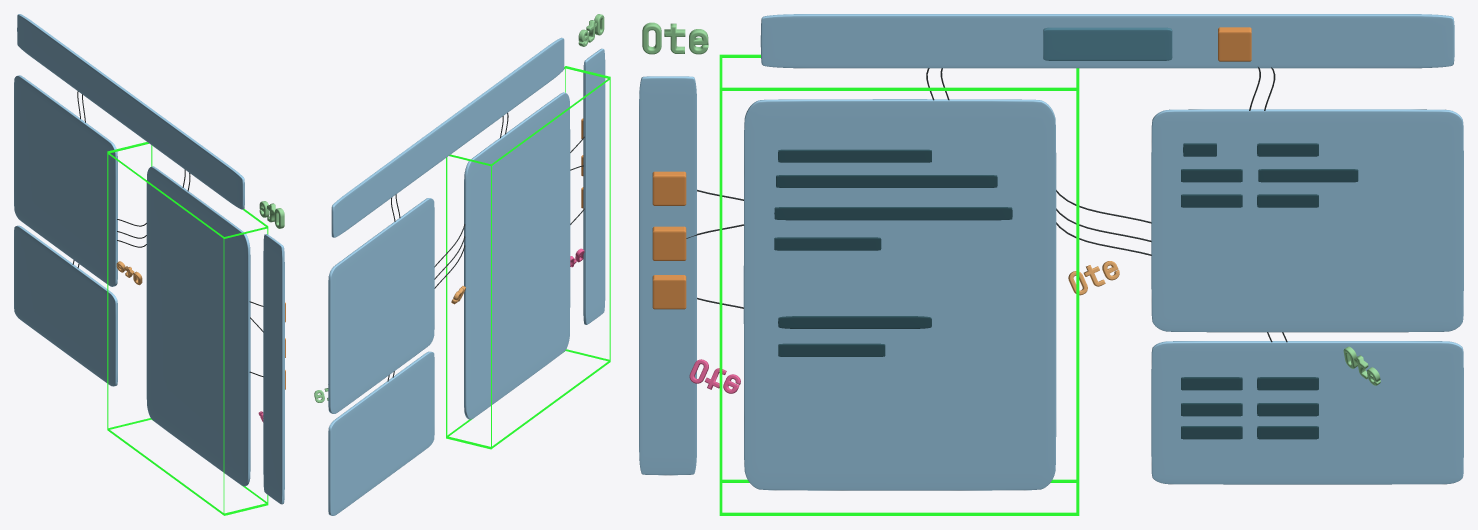
3 renders of one model, left to right at view 1: azimuth 30°, elevation 25°; view 2: azimuth 150°, elevation 25°; view 3: azimuth 270°, elevation 25°, orthographic. The views are drawn at different scales.
Visible parts, largest first — view 1: Cube.156, Cube.154, Cube.155, Cube.153, Cube.151, Cube.175, Text.007; view 2: Cube.156, Cube.154, Cube.155, Cube.153, Cube.151, Cube.175, Text.007; view 3: Cube.156, Cube.154, Cube.155, Cube.153, Cube.151, Cube.175, Cube.152, Cube.160, Cube.158, Cube.157, Cube.161, Cube.159 (+7 smaller).
Boxes of the visible parts, x1,y1,x2,y2 form: Cube.156: (146, 166, 250, 486); Cube.154: (14, 75, 117, 286); Cube.155: (14, 225, 117, 386); Cube.153: (17, 14, 244, 209); Cube.151: (263, 234, 284, 504); Cube.175: (107, 142, 268, 515); Text.007: (259, 201, 284, 228); Cube.156: (464, 92, 570, 419); Cube.154: (328, 198, 434, 413); Cube.155: (328, 351, 434, 515); Cube.153: (331, 37, 564, 237); Cube.151: (583, 48, 605, 324); Cube.175: (446, 66, 610, 449); Text.007: (578, 14, 604, 46); Cube.156: (743, 99, 1056, 490); Cube.154: (1151, 109, 1463, 332); Cube.155: (1151, 341, 1463, 484); Cube.153: (760, 14, 1454, 68); Cube.151: (639, 76, 696, 475); Cube.175: (719, 54, 1079, 515); Cube.152: (1043, 27, 1172, 60); Cube.160: (774, 207, 1012, 220); Cube.158: (776, 175, 997, 187); Cube.157: (778, 149, 931, 162); Cube.161: (778, 316, 931, 328); Cube.159: (774, 237, 881, 250).
Bounding box in the file's own units: 0.6613 × 2.65 × 4.02.
